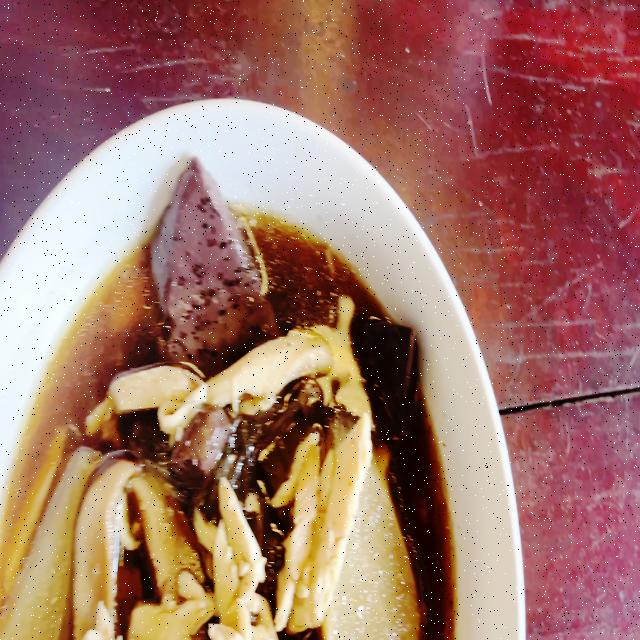boiled_chicken_blood_jelly: (150, 159, 268, 353), (355, 306, 420, 415), (179, 410, 221, 482)
chicken_shredded: (281, 414, 368, 620), (193, 483, 272, 640), (206, 318, 340, 408), (82, 355, 204, 425)
daikon_radish: (5, 454, 82, 640), (344, 481, 406, 640)
noodle: (0, 212, 453, 640)
